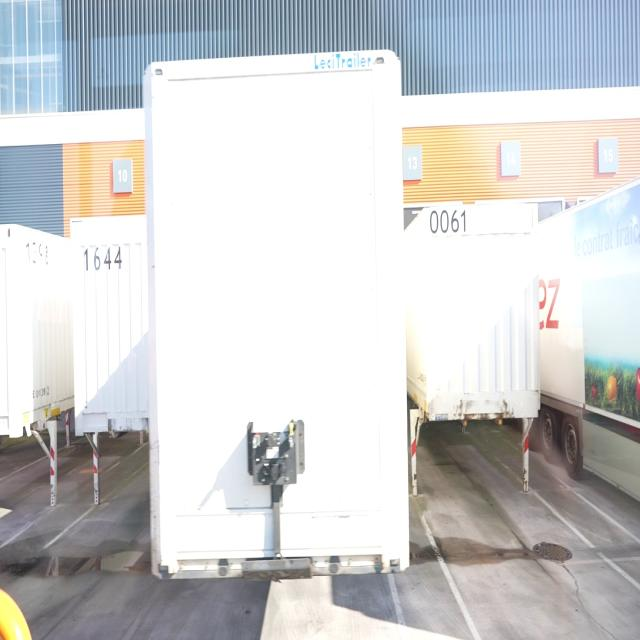Code: (428, 207, 468, 237), (81, 245, 123, 272)
